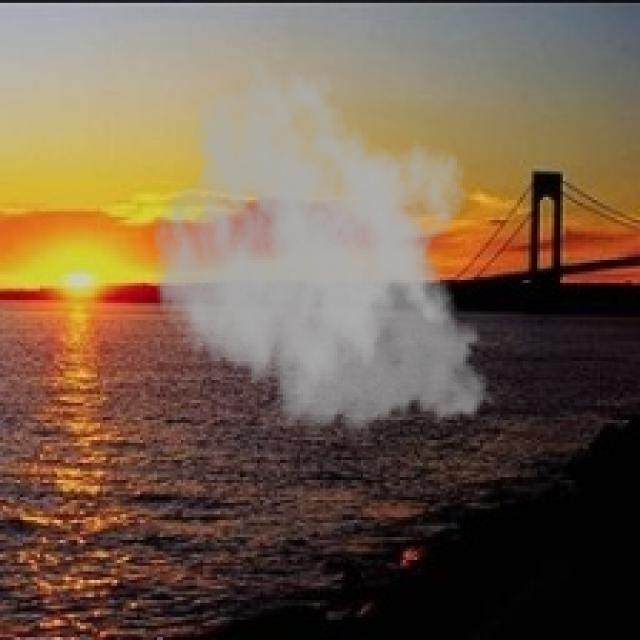Smoke: (151, 57, 503, 443)
